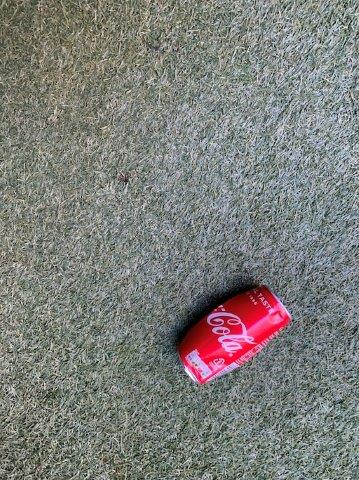kaleng: (178, 286, 290, 384)
